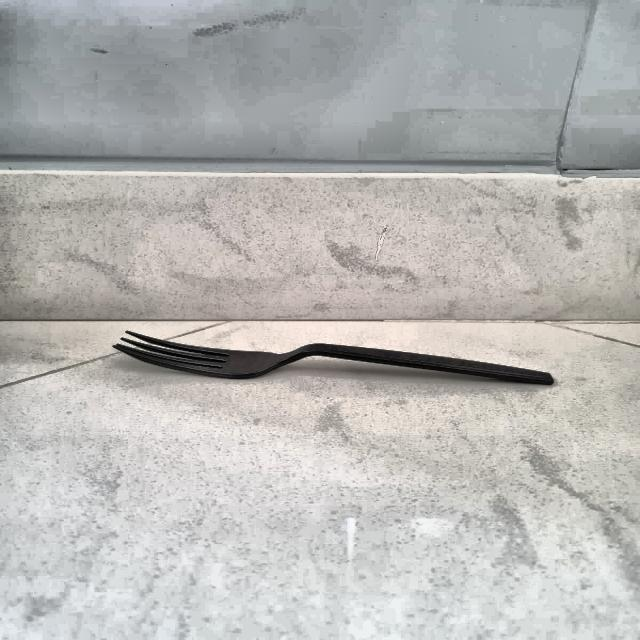plastic utensil: (115, 326, 562, 390)
